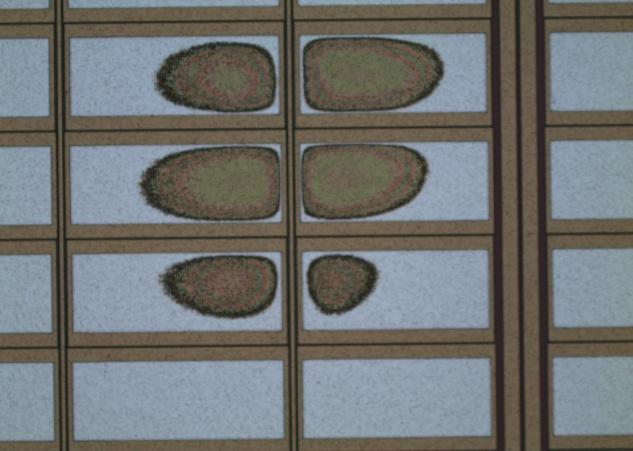BLOCK ETCH: (129, 17, 463, 337)
